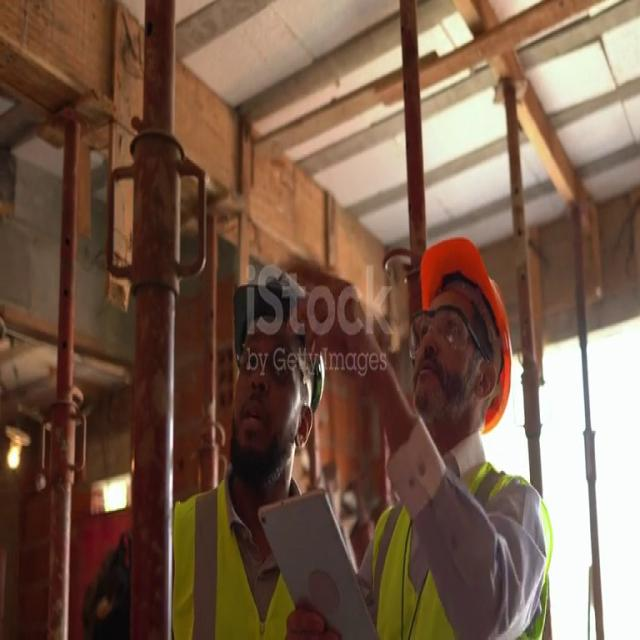capacete: (405, 234, 521, 437), (231, 250, 337, 423)
